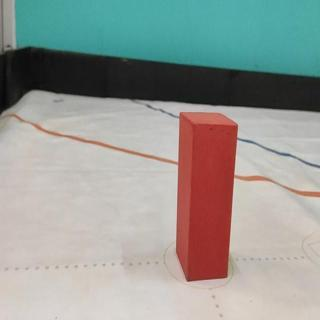redbox: (174, 111, 238, 281)
